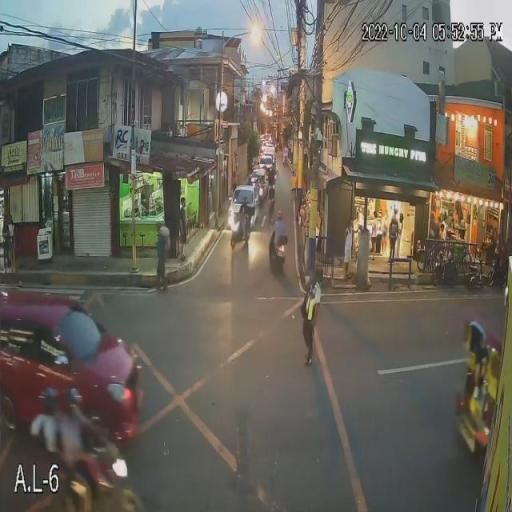helmet: (37, 388, 59, 415), (63, 388, 80, 421), (239, 195, 247, 207), (276, 211, 282, 221)
motorcycle: (38, 444, 147, 511), (270, 228, 288, 274), (232, 212, 253, 249)
rider: (62, 386, 95, 508), (32, 391, 62, 467), (236, 196, 251, 239), (274, 210, 285, 249)
